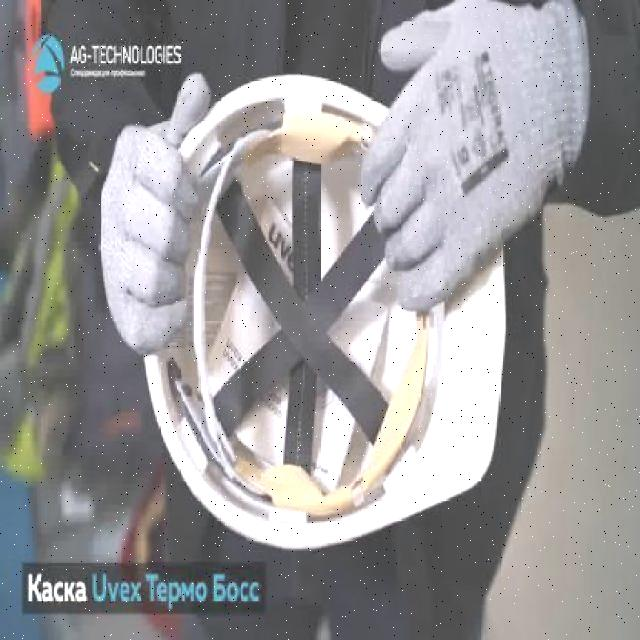Gloves: (356, 0, 592, 318), (99, 69, 212, 362)
Helmet: (141, 70, 508, 555)
